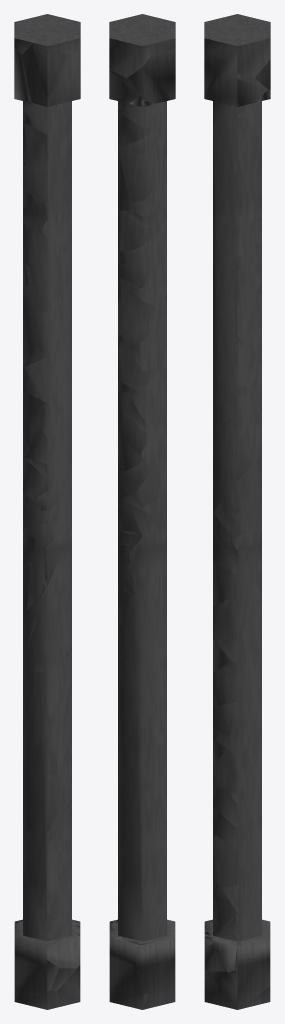
Rendered from PilarFractured.fbx.
3 views of the same model, side by side, from view 1: azimuth 90°, elevation 25°; view 2: azimuth 210°, elevation 25°; view 3: azimuth 270°, elevation 25° (orthographic).
Parts seen in each view (by area): view 1: Pillar, Pillar_cell.017, Pillar_cell.008_cell.001, Pillar_cell.014_cell, Pillar_cell.010_cell.004, Pillar_cell.031_cell.003_cell.004, Pillar_cell.004_cell, Pillar_cell.016_cell.002, Pillar_cell.032_cell, Pillar_cell.028, Pillar_cell.018, Pillar_cell.023 (+33 smaller); view 2: Pillar, Pillar_cell.004_cell.001, Pillar_cell.007, Pillar_cell.012_cell.002, Pillar_cell.030, Pillar_cell.012_cell.003_cell.005, Pillar_cell.009_cell.005, Pillar_cell.046_cell, Pillar_cell.016_cell.001, Pillar_cell.023, Pillar_cell.012_cell.001, Pillar_cell.016_cell.002 (+27 smaller); view 3: Pillar, Pillar_cell.010_cell.005, Pillar_cell.033_cell.001, Pillar_cell.030, Pillar_cell.004_cell.001, Pillar_cell.031_cell.002, Pillar_cell.020_cell_cell.005, Pillar_cell.032_cell.005, Pillar_cell.016_cell.001, Pillar_cell.040_cell.002, Pillar_cell.047_cell.002, Pillar_cell.025_cell.005 (+35 smaller).
Part boxes in pixels (left/top/right/bottom): Pillar: left=14, top=14, right=80, bottom=1009; Pillar_cell.017: left=22, top=35, right=67, bottom=106; Pillar_cell.008_cell.001: left=27, top=612, right=71, bottom=669; Pillar_cell.014_cell: left=46, top=920, right=80, bottom=968; Pillar_cell.010_cell.004: left=47, top=830, right=71, bottom=889; Pillar_cell.031_cell.003_cell.004: left=47, top=773, right=71, bottom=831; Pillar_cell.004_cell: left=23, top=122, right=47, bottom=171; Pillar_cell.016_cell.002: left=23, top=226, right=47, bottom=270; Pillar_cell.032_cell: left=42, top=567, right=71, bottom=612; Pillar_cell.028: left=23, top=357, right=47, bottom=402; Pillar_cell.018: left=52, top=684, right=71, bottom=742; Pillar_cell.023: left=14, top=22, right=56, bottom=53; Pillar: left=109, top=25, right=175, bottom=1009; Pillar_cell.004_cell.001: left=118, top=145, right=166, bottom=202; Pillar_cell.007: left=127, top=47, right=175, bottom=103; Pillar_cell.012_cell.002: left=128, top=313, right=166, bottom=371; Pillar_cell.030: left=109, top=38, right=151, bottom=78; Pillar_cell.012_cell.003_cell.005: left=119, top=292, right=165, bottom=328; Pillar_cell.009_cell.005: left=118, top=96, right=166, bottom=127; Pillar_cell.046_cell: left=128, top=391, right=166, bottom=428; Pillar_cell.016_cell.001: left=118, top=211, right=162, bottom=252; Pillar_cell.023: left=124, top=24, right=175, bottom=57; Pillar_cell.012_cell.001: left=131, top=263, right=166, bottom=309; Pillar_cell.016_cell.002: left=126, top=226, right=166, bottom=263; Pillar: left=204, top=20, right=270, bottom=1009; Pillar_cell.010_cell.005: left=213, top=835, right=237, bottom=885; Pillar_cell.033_cell.001: left=204, top=971, right=237, bottom=1009; Pillar_cell.030: left=237, top=38, right=270, bottom=77; Pillar_cell.004_cell.001: left=238, top=149, right=261, bottom=202; Pillar_cell.031_cell.002: left=213, top=749, right=237, bottom=793; Pillar_cell.020_cell_cell.005: left=215, top=504, right=258, bottom=537; Pillar_cell.032_cell.005: left=213, top=563, right=257, bottom=606; Pillar_cell.016_cell.001: left=237, top=215, right=261, bottom=255; Pillar_cell.040_cell.002: left=213, top=668, right=237, bottom=707; Pillar_cell.047_cell.002: left=216, top=439, right=261, bottom=482; Pillar_cell.025_cell.005: left=212, top=928, right=241, bottom=972.
Size of the model in its own units: 142 by 1980 by 123.
